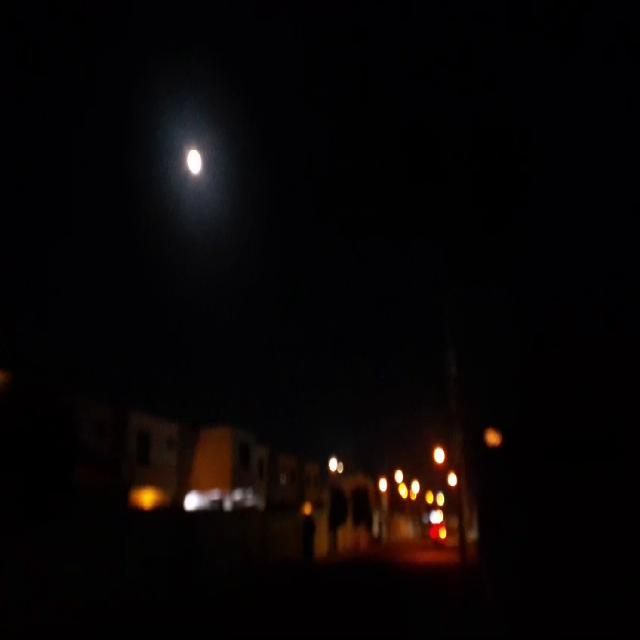moon: (182, 144, 202, 178)
